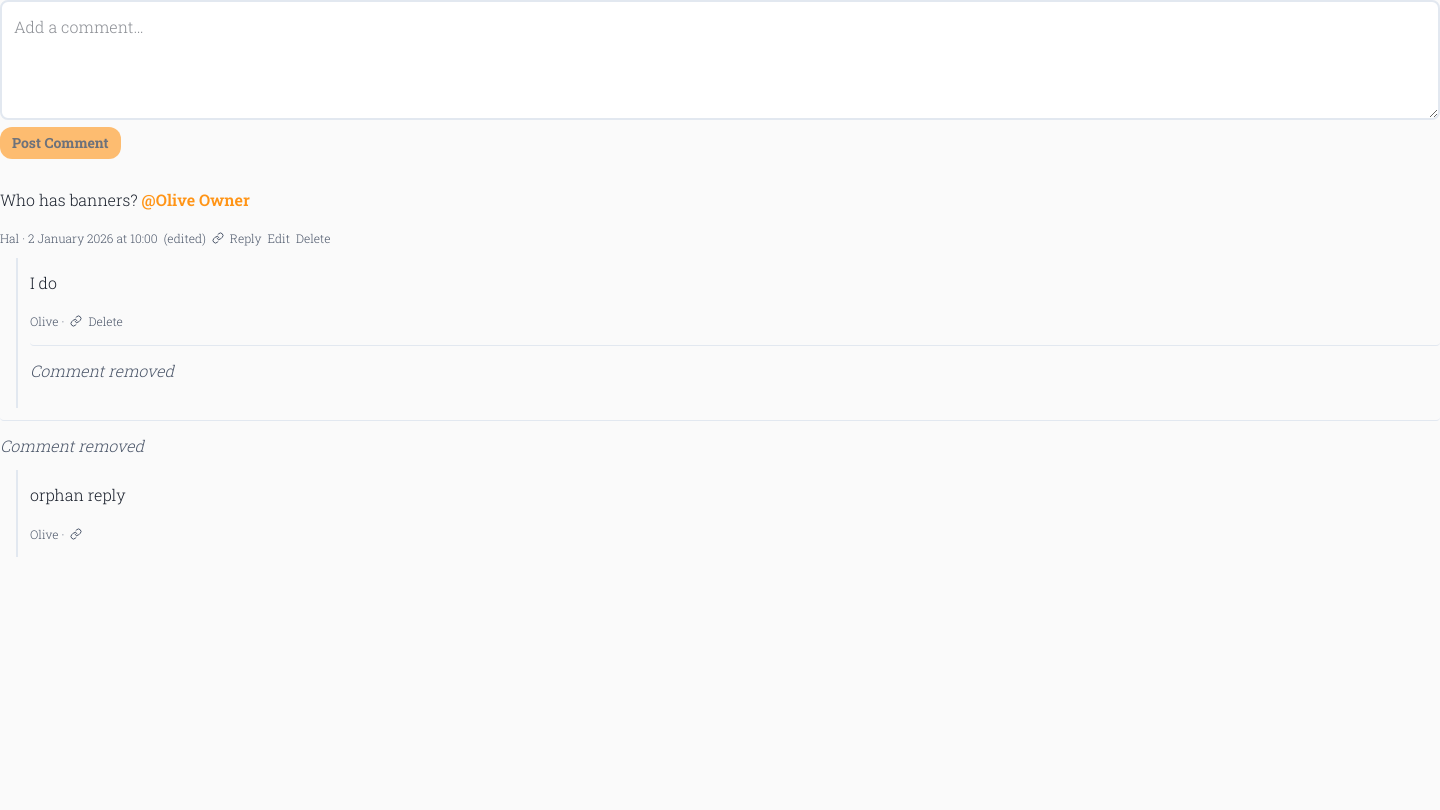
Test: CommentThreadView discussion actions › deletes after confirming
Click the button "Delete" in the row of "(edited)" at (313, 238), box [296,230,330,246]
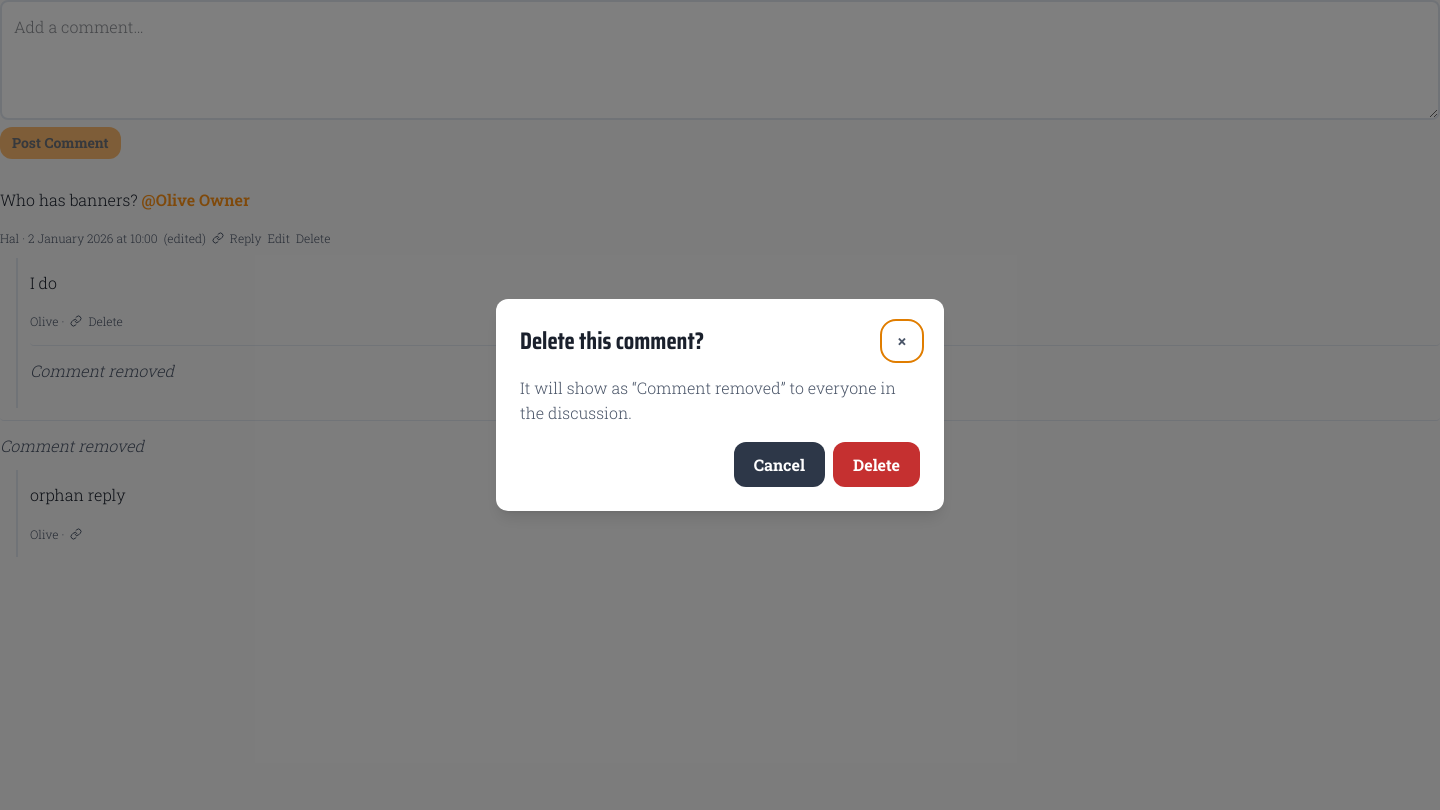
Expected: the dialog "Delete this comment?" shows "Comment removed", [520,377,896,423]
Click the button "Cancel" at (779, 465), box [734,442,825,487]
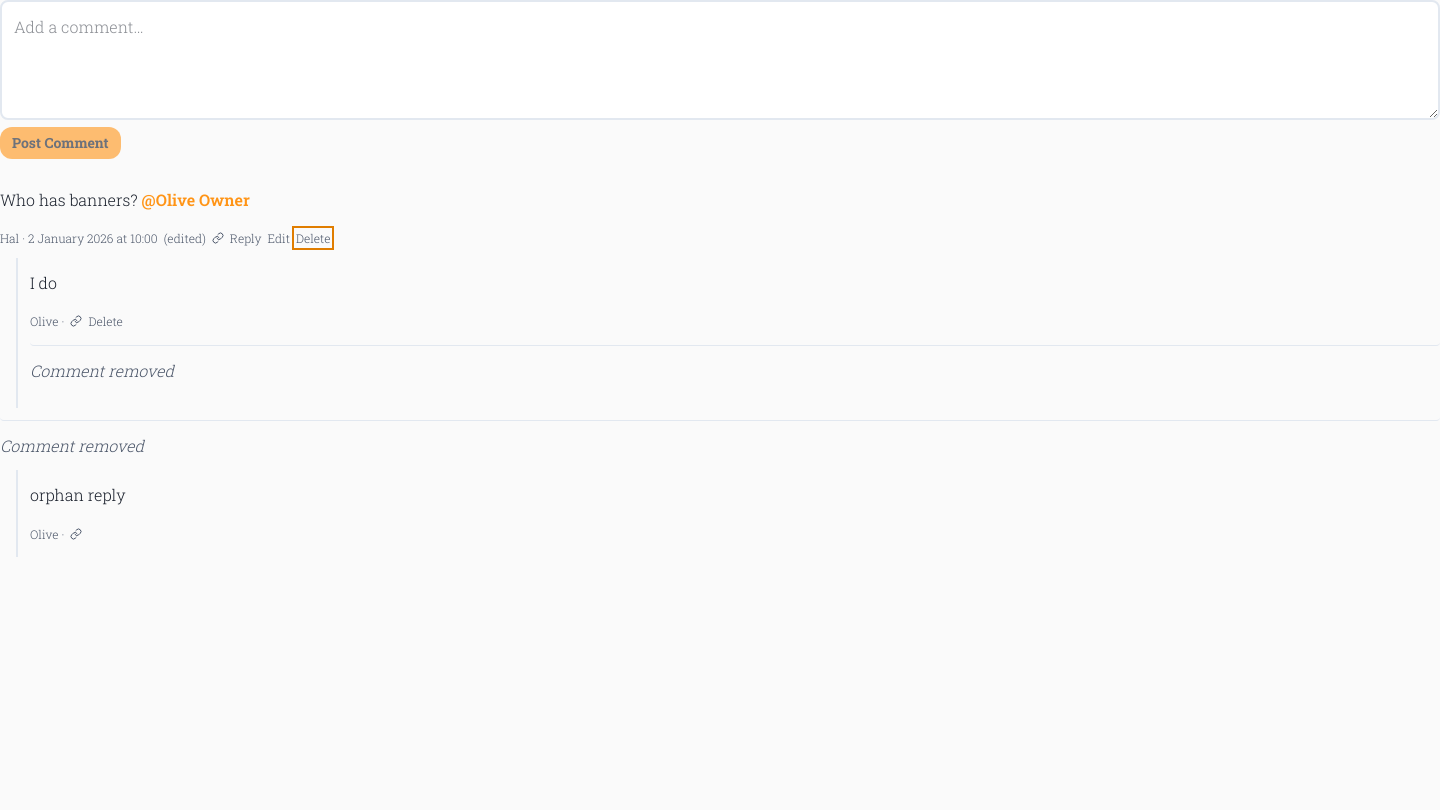
Click the button "Delete" below "I do" at (106, 321), box [88,313,123,329]
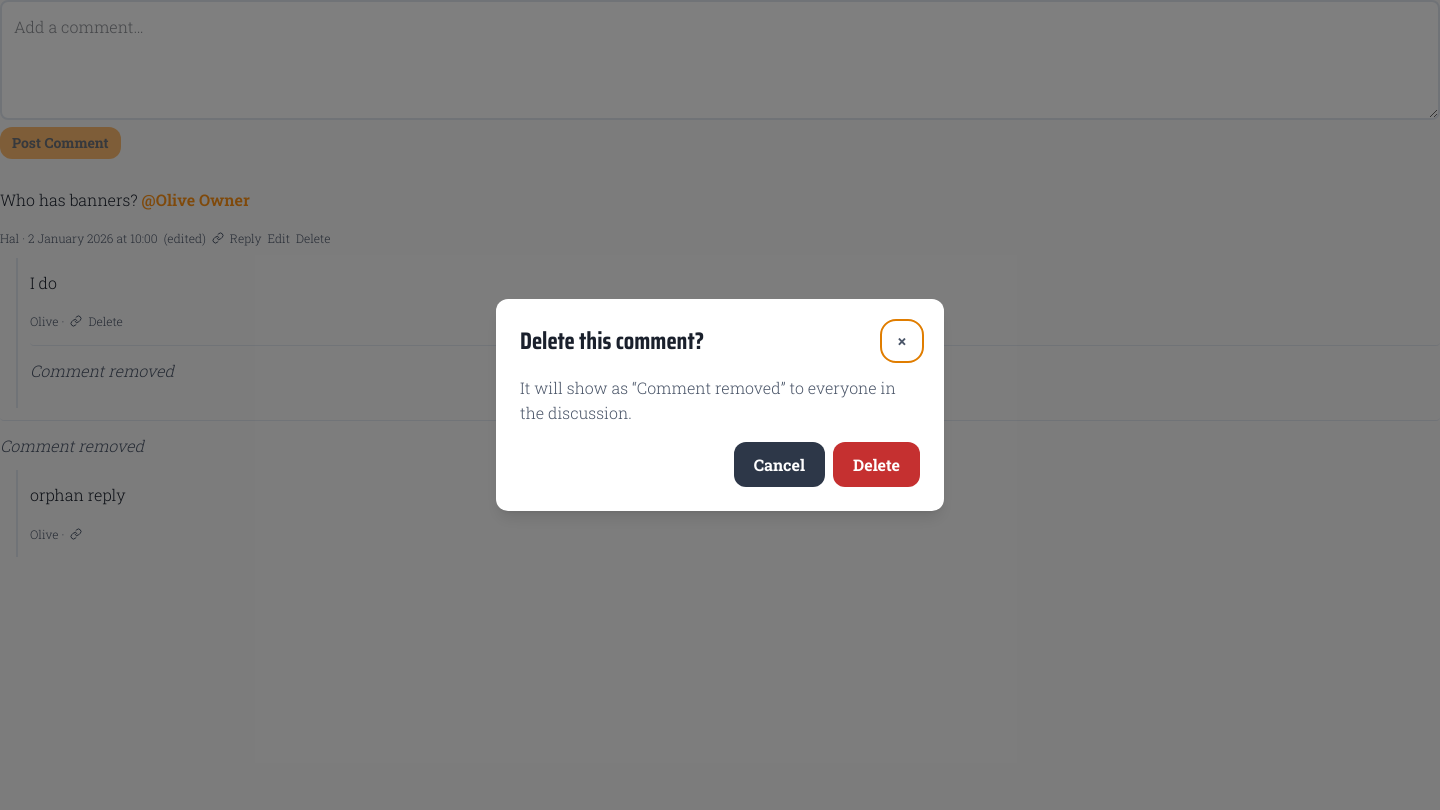
Click the button "Delete" at (877, 465), box [833,442,920,487]
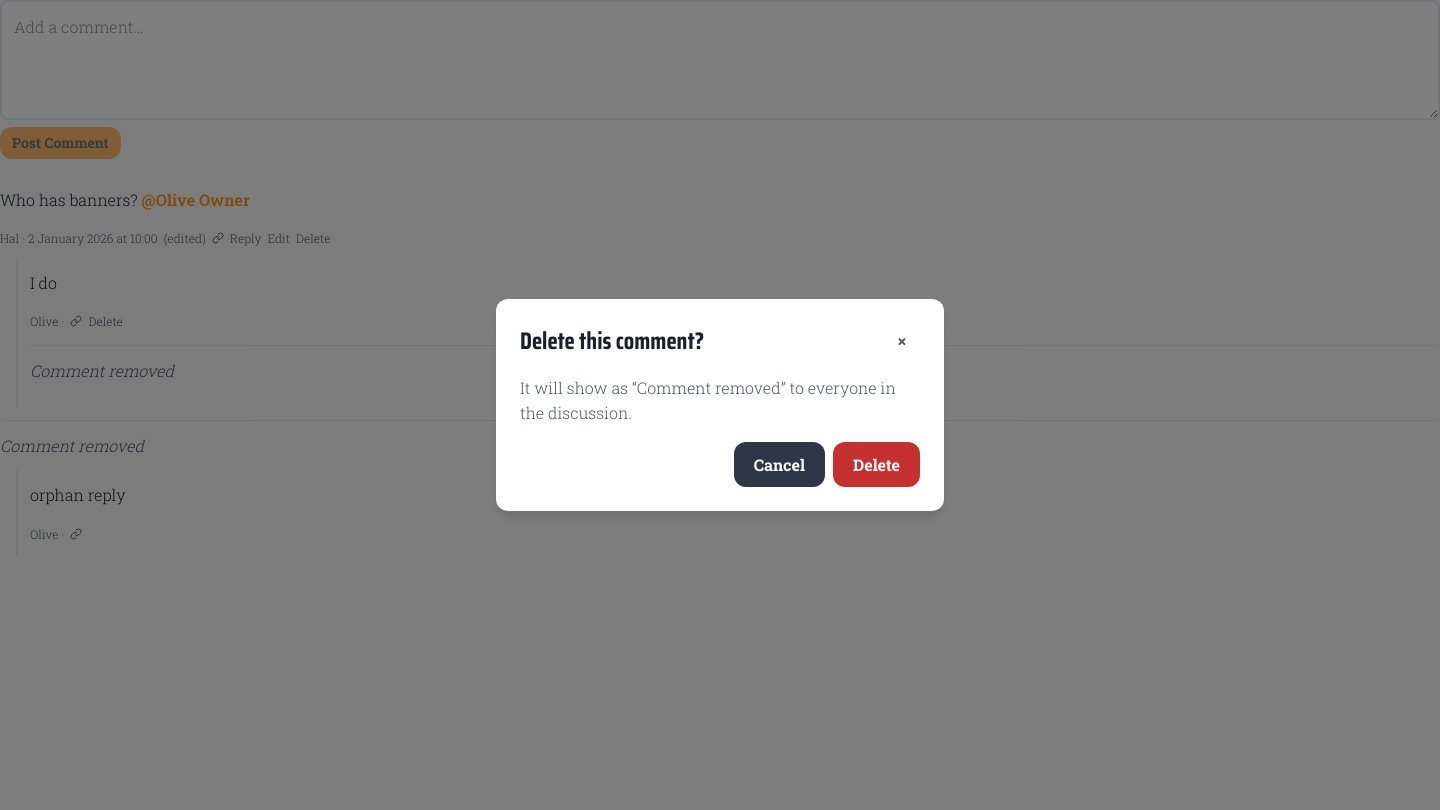
Expected: the dialog is shown, [496,299,944,511]
Click the button "Delete" at (877, 465), box [833,442,920,487]
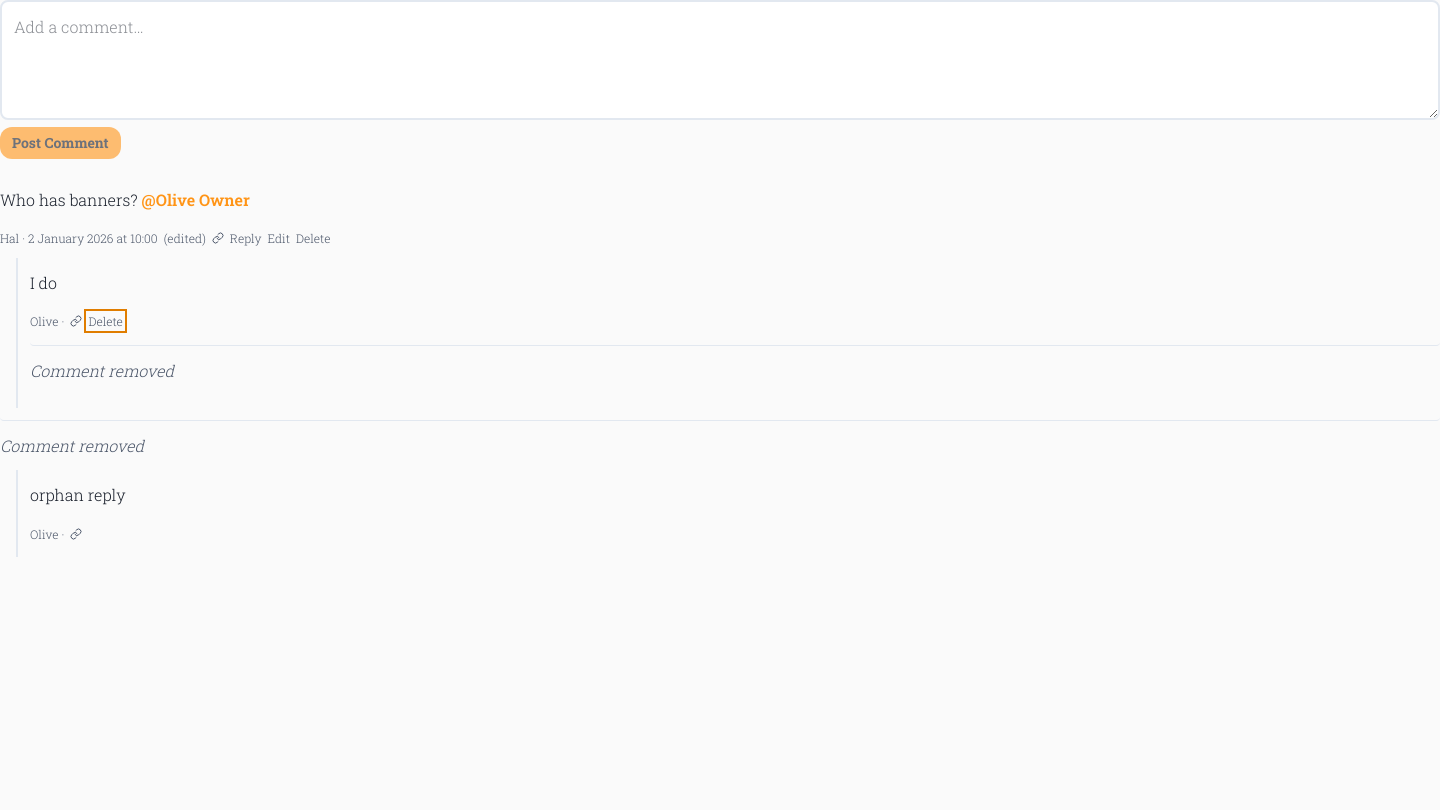
Expected: the dialog is gone
